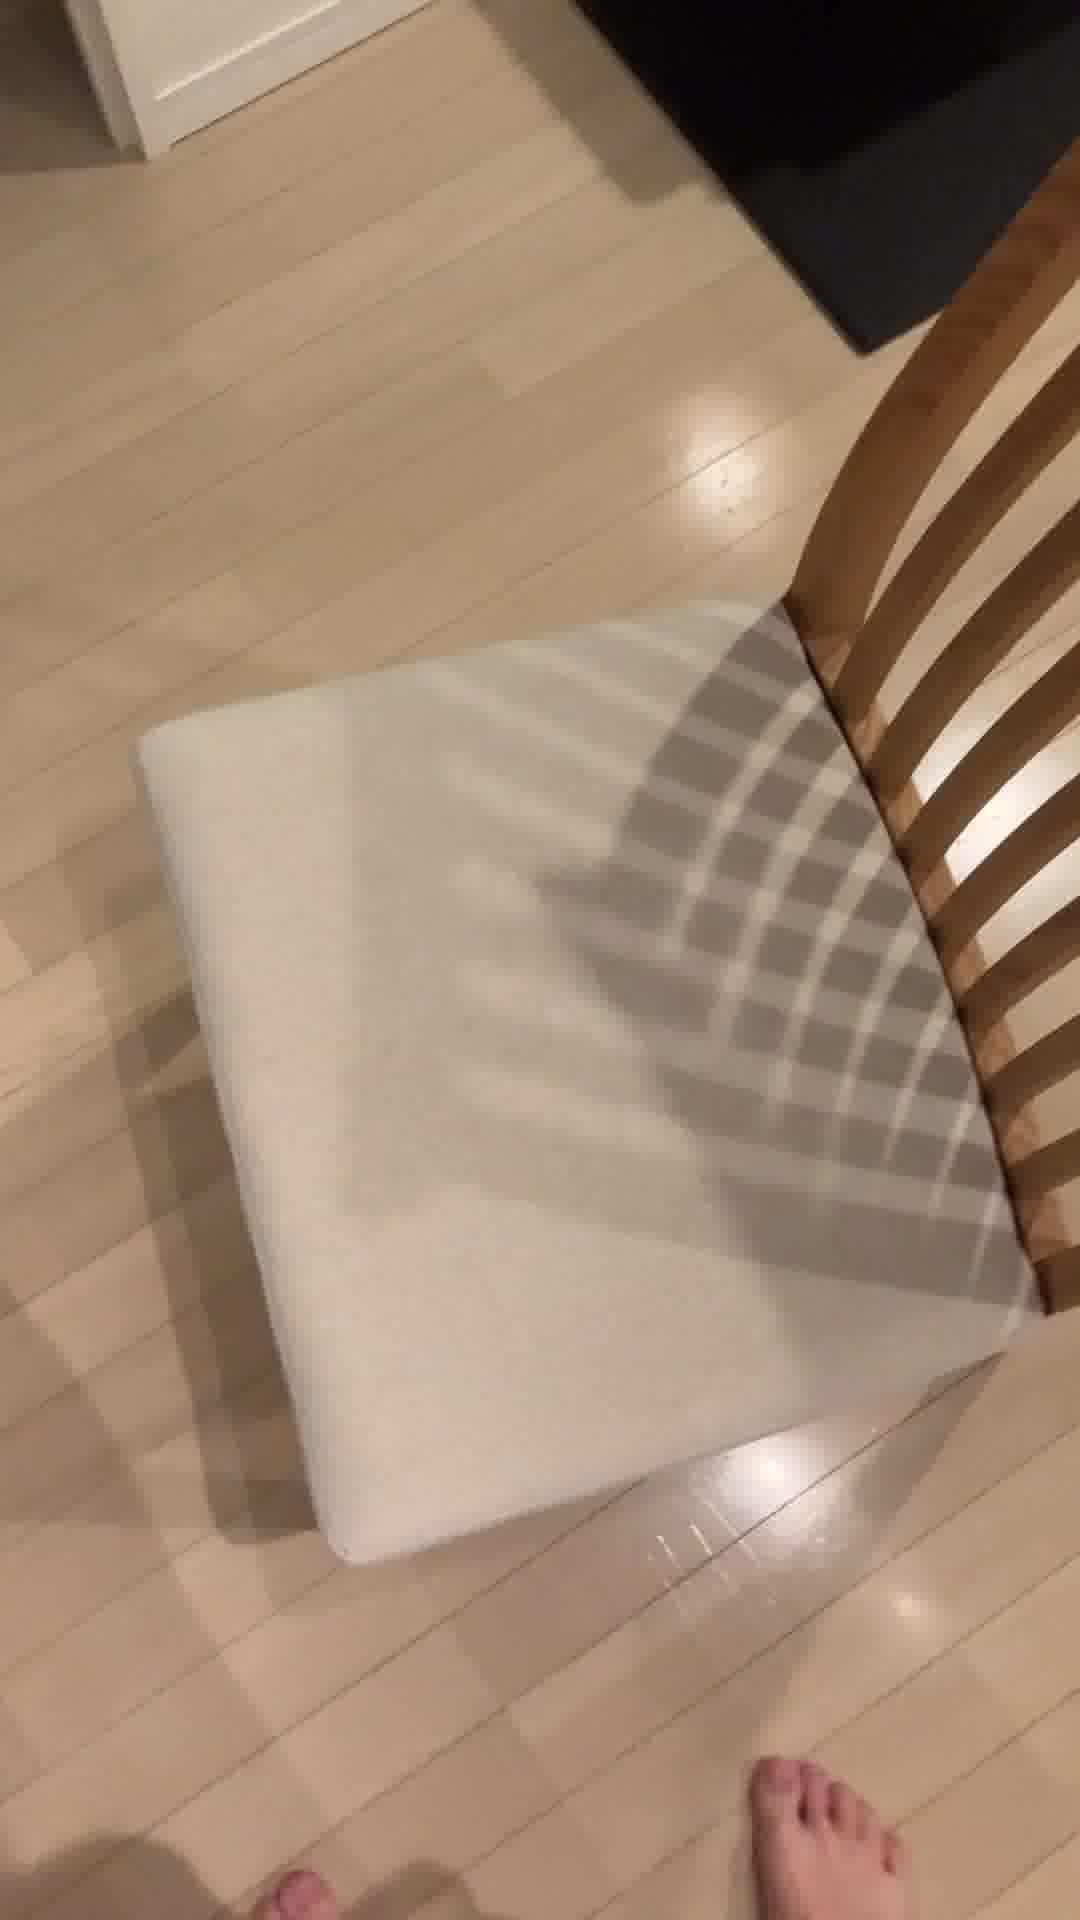takumikan-chair: (127, 124, 1080, 1576)
